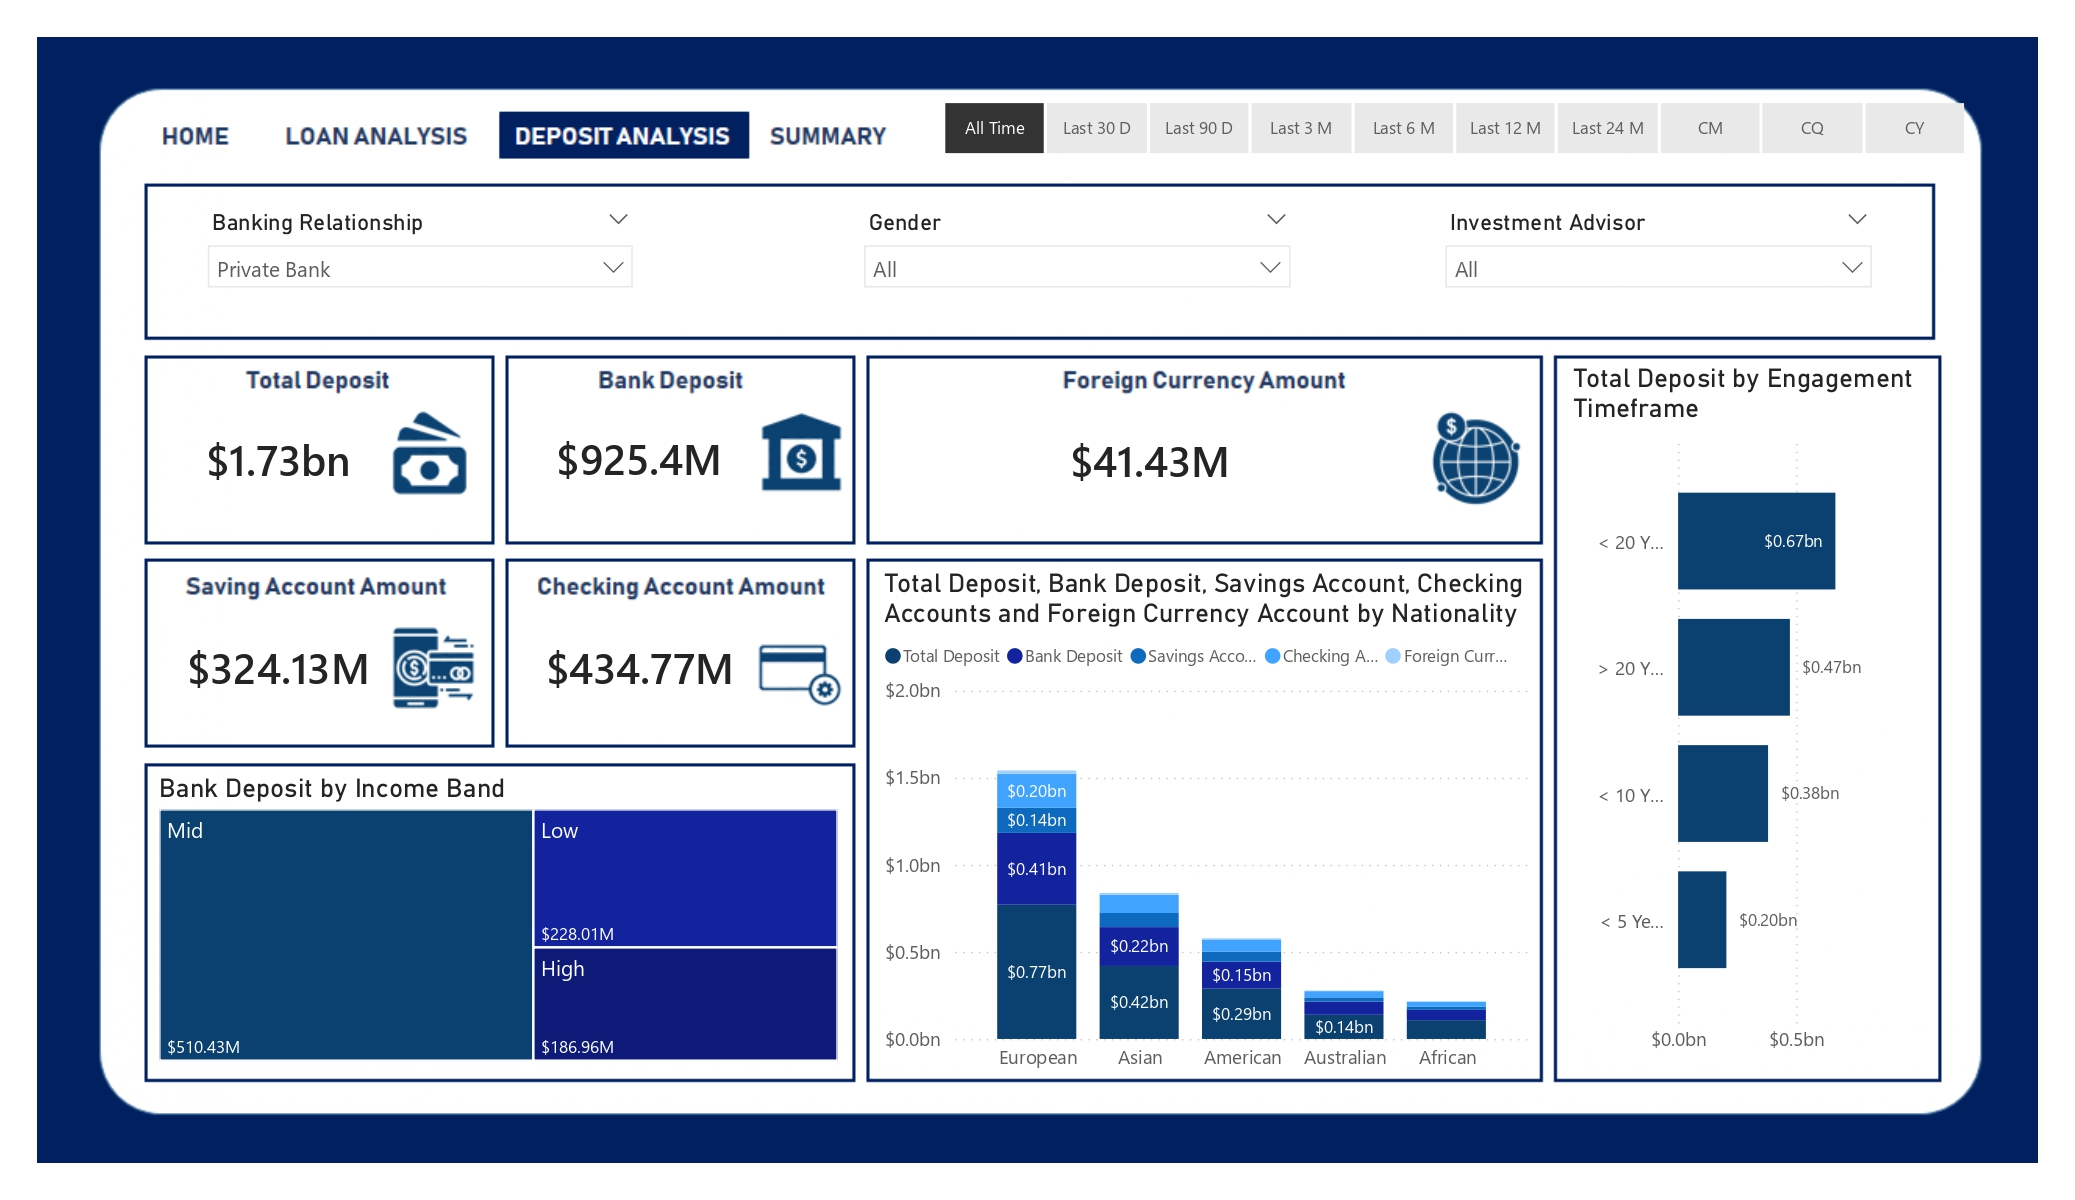

Layout of this report page (visuals, bound fields, positions):
{"tool":"powerbi","page":{"name":"Deposit Analysis","canvas":[1280,720],"ordinal":2},"visuals":[{"type":"card","fields":{"Values":["DAX Measures.Total Deposit"]},"box":[72.7,226.3,161.8,90.3],"z":0},{"type":"card","fields":{"Values":["DAX Measures.Bank Deposit"]},"box":[299,226.3,172.4,89.1],"z":1000},{"type":"card","fields":{"Values":["DAX Measures.Savings Account"]},"box":[72.7,360,161.8,89.1],"z":2000},{"type":"card","fields":{"Values":["DAX Measures.Checking Accounts"]},"box":[300.2,360,171.2,89.1],"z":3000},{"type":"slicer","fields":{"Values":["Banking Relationship.Banking Relationship"]},"box":[98.5,105.2,292.9,75.7],"z":4000},{"type":"slicer","fields":{"Values":["Gender.Gender"]},"box":[518.9,105.2,292.9,75.7],"z":5000},{"type":"slicer","fields":{"Values":["Investment Advisor.Investment Advisor"]},"box":[891.3,105.2,292.9,75.7],"z":6000},{"type":"card","fields":{"Values":["DAX Measures.Foreign Currency Account"]},"box":[537.1,227.5,349.4,89.1],"z":7000},{"type":"treemap","fields":{"Group":["Clients - Banking.Income Band"],"Values":["DAX Measures.Bank Deposit"]},"box":[72.7,470.2,444.4,190],"z":8000},{"type":"columnChart","fields":{"Category":["Clients - Banking.Nationality"],"Y":["DAX Measures.Total Deposit","DAX Measures.Bank Deposit","DAX Measures.Savings Account","DAX Measures.Checking Accounts","DAX Measures.Foreign Currency Account"]},"box":[537.1,338.9,423.3,331.9],"z":9000},{"type":"clusteredBarChart","fields":{"Category":["Clients - Banking.Engagement Timeframe"],"Y":["DAX Measures.Total Deposit"]},"box":[978,207.6,234.5,452.6],"z":10000},{"type":"slicer","fields":{"Values":["Period.Name"]},"box":[555.2,34.6,702.1,46.6],"z":11000},{"type":"actionButton","box":[72.8,44.2,58.5,31],"z":12000},{"type":"actionButton","box":[160,44.2,119.4,31],"z":13000},{"type":"actionButton","box":[471.6,44.2,83.6,31],"z":14000}]}

Visuals, with their boxes on the page's 1280x720 design canvas (x1, y1, x2, y2). These are canvas units, not pixel positions in the 2075x1200 screenshot, which may show the page scaled, cropped or inside an application window:
card - DAX Measures.Total Deposit: l=73, t=226, r=234, b=317
card - DAX Measures.Bank Deposit: l=299, t=226, r=471, b=315
card - DAX Measures.Savings Account: l=73, t=360, r=234, b=449
card - DAX Measures.Checking Accounts: l=300, t=360, r=471, b=449
slicer - Banking Relationship.Banking Relationship: l=98, t=105, r=391, b=181
slicer - Gender.Gender: l=519, t=105, r=812, b=181
slicer - Investment Advisor.Investment Advisor: l=891, t=105, r=1184, b=181
card - DAX Measures.Foreign Currency Account: l=537, t=228, r=886, b=317
treemap - Clients - Banking.Income Band x DAX Measures.Bank Deposit: l=73, t=470, r=517, b=660
columnChart - Clients - Banking.Nationality x DAX Measures.Total Deposit: l=537, t=339, r=960, b=671
clusteredBarChart - Clients - Banking.Engagement Timeframe x DAX Measures.Total Deposit: l=978, t=208, r=1212, b=660
slicer - Period.Name: l=555, t=35, r=1257, b=81
actionButton: l=73, t=44, r=131, b=75
actionButton: l=160, t=44, r=279, b=75
actionButton: l=472, t=44, r=555, b=75
